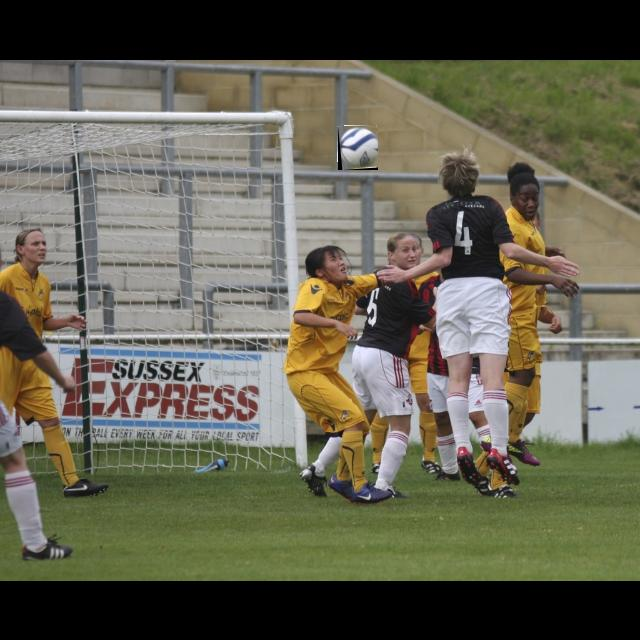Football: (338, 126, 378, 170)
